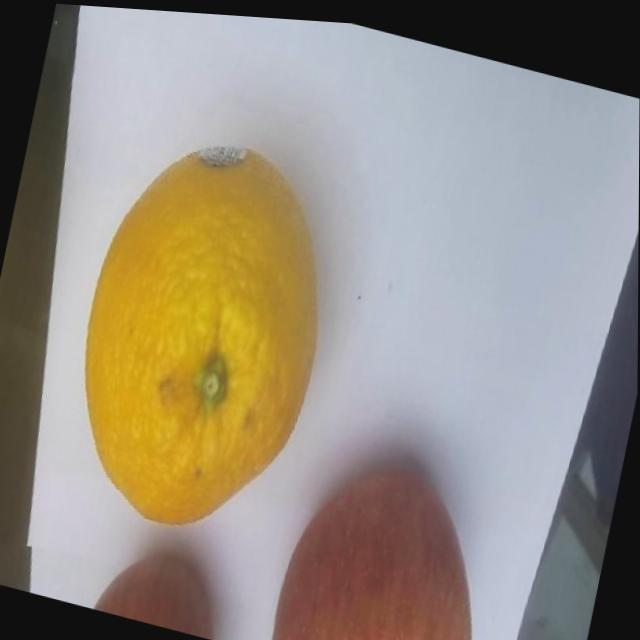Apple: (267, 434, 510, 640), (91, 535, 232, 639)
Orange: (52, 113, 352, 555)
